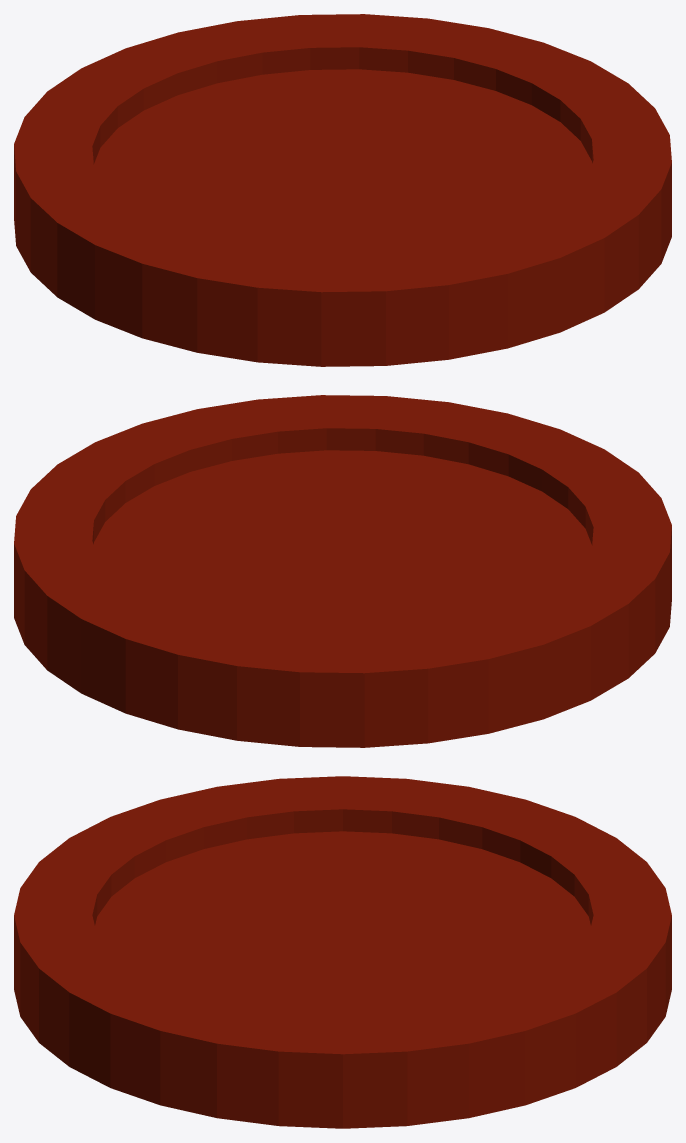
3 renders of one model, top to bottom at view 1: azimuth 30°, elevation 25°; view 2: azimuth 150°, elevation 25°; view 3: azimuth 270°, elevation 25°, orthographic.
Visible parts, largest first — view 1: ficha1; view 2: ficha1; view 3: ficha1.
Part boxes in pixels (box(x1,y1,x2,y2)): ficha1: box(14, 14, 671, 366); ficha1: box(14, 395, 671, 747); ficha1: box(14, 776, 671, 1128).
Bounding box in the file's own units: 2 × 0.25 × 2.
